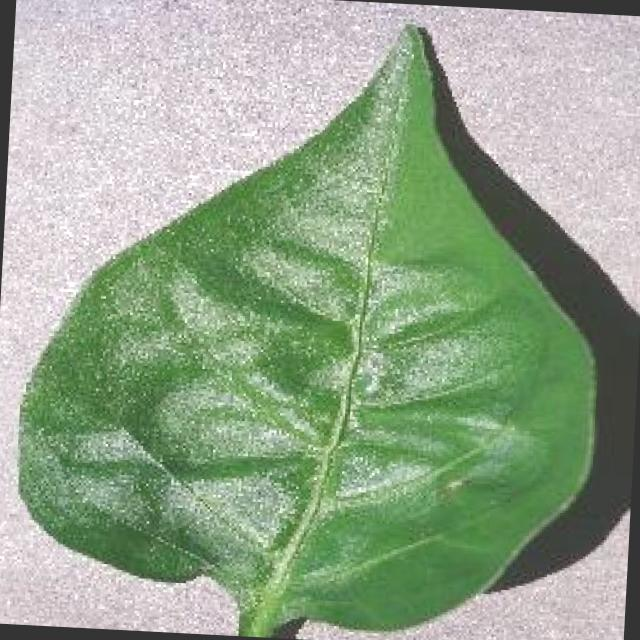Leaf: (220, 196, 566, 407), (286, 424, 536, 595), (56, 270, 222, 488), (332, 42, 483, 162)
